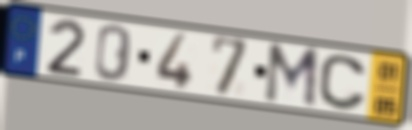0: (93, 22, 134, 84)
2: (45, 17, 87, 80)
4: (153, 31, 195, 93)
7: (210, 33, 251, 99)
C: (317, 53, 369, 113)
M: (262, 41, 322, 112)
